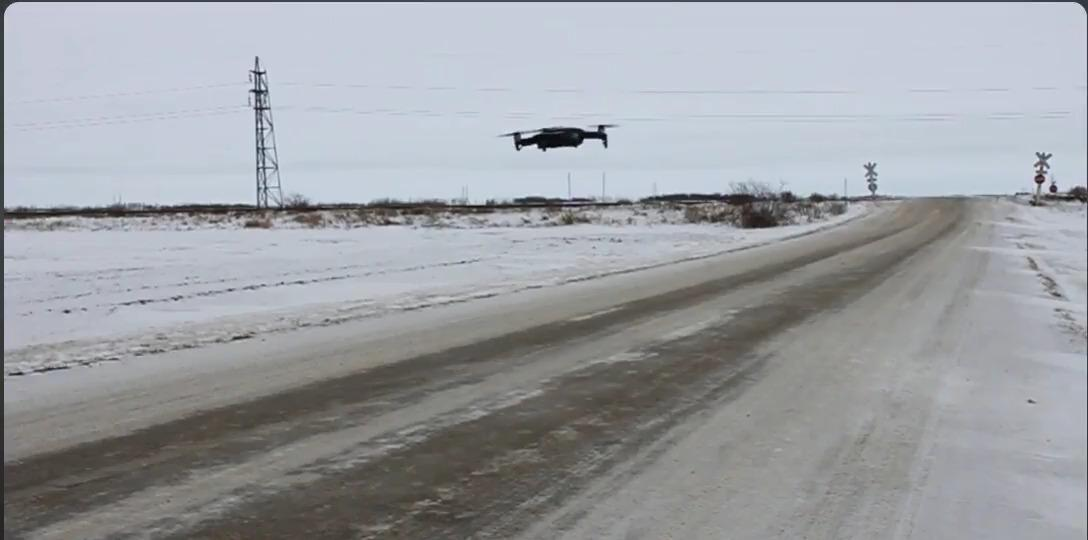dr: (486, 97, 639, 169)
